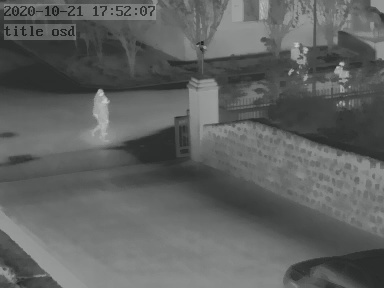person: (90, 86, 110, 138), (288, 41, 306, 67)
